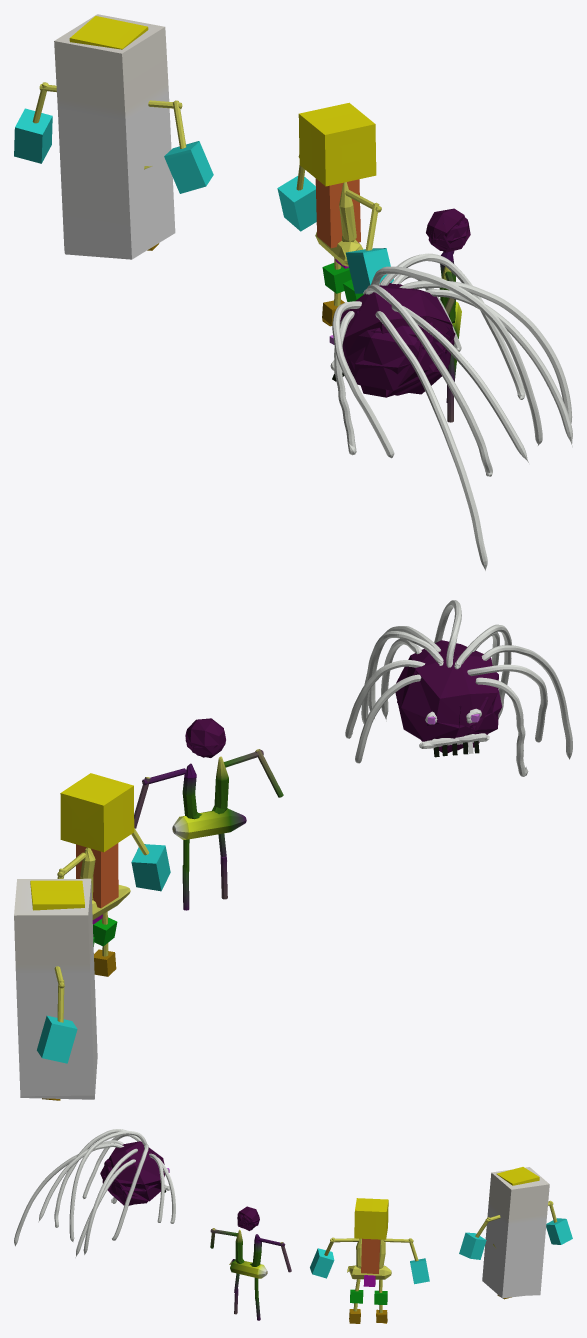
Rendered from R-D_character_toolset.fbx.
3 views of the same model, one above another, from view 1: azimuth 30°, elevation 25°; view 2: azimuth 150°, elevation 25°; view 3: azimuth 270°, elevation 25° (orthographic). The views are drawn at different scales.
Parts seen in each view (by area): view 1: Paint; view 2: Paint; view 3: Paint.
Boxes of the visible parts, x1,y1,x2,y2 form: Paint: (14,14,572,570); Paint: (14,600,572,1100); Paint: (14,1129,572,1323).
Bounding box in the file's own units: 1.37 × 1.27 × 4.38.
